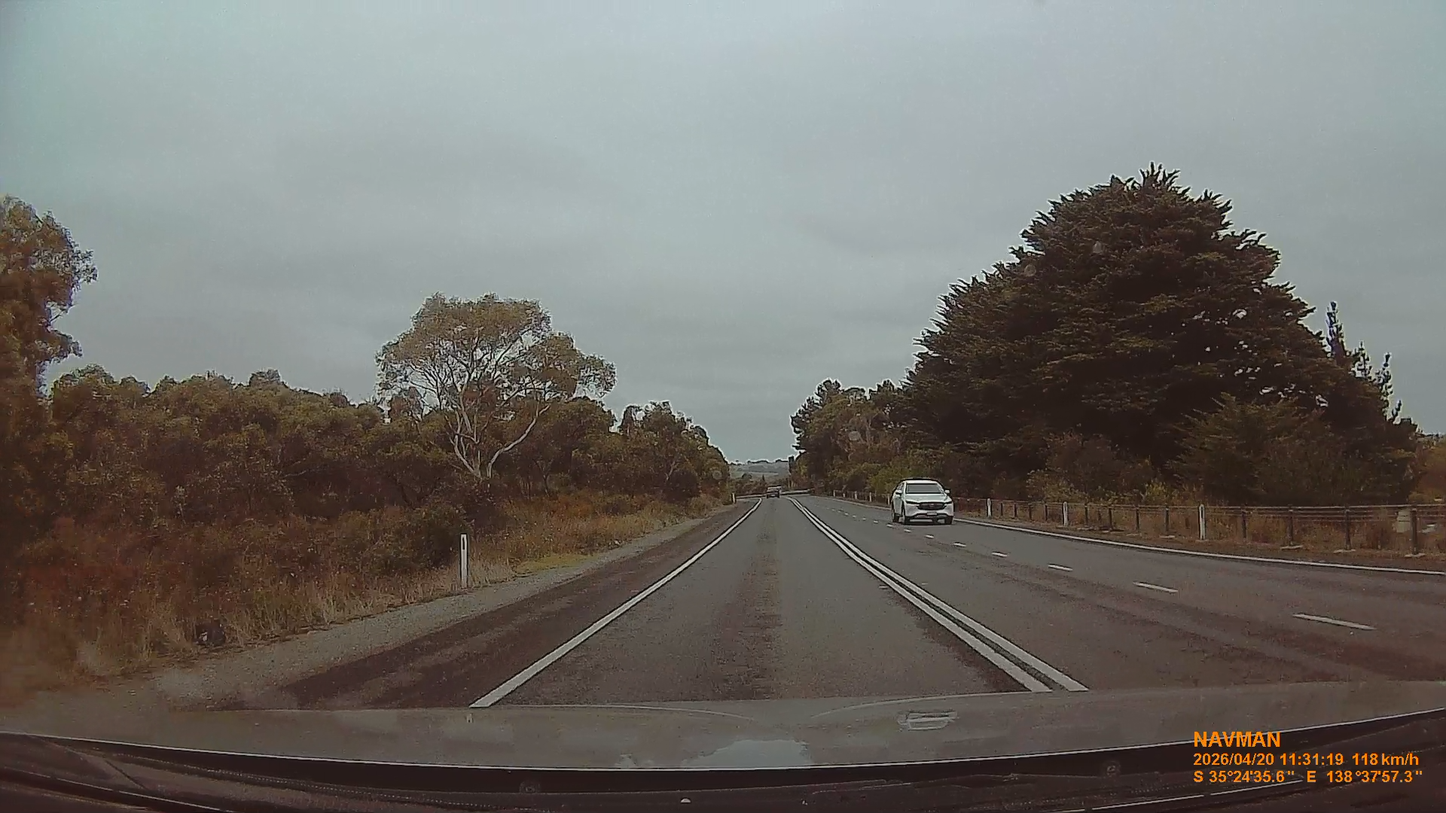fences: (969, 499, 1445, 556), (832, 488, 874, 503)
